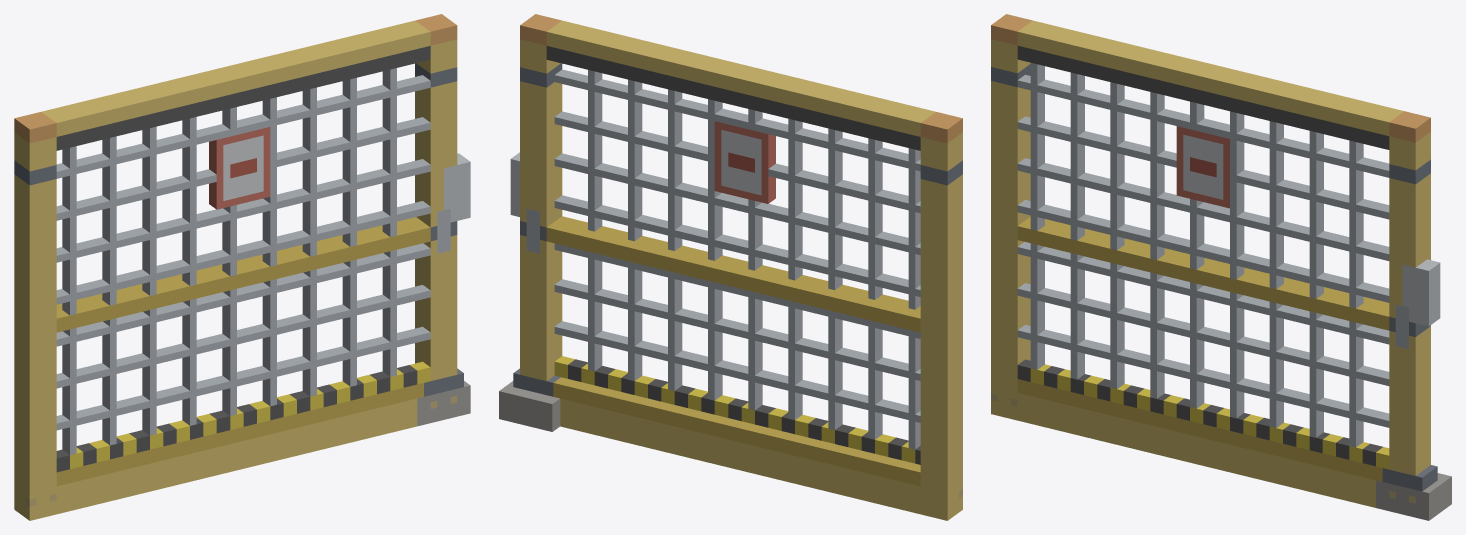
The model's file is safety_fence.glb.
The picture shows the model from 3 angles, left to right: view 1: azimuth 30°, elevation 25°; view 2: azimuth 150°, elevation 25°; view 3: azimuth 330°, elevation 25°; orthographic projection.
Visible parts, largest first — view 1: safety_fence; view 2: safety_fence; view 3: safety_fence.
Boxes of the visible parts, x1,y1,x2,y2 form: safety_fence: (14, 14, 470, 520); safety_fence: (499, 14, 962, 520); safety_fence: (991, 14, 1451, 520).
Bounding box in the file's own units: 2.06 × 1.75 × 0.1875.
